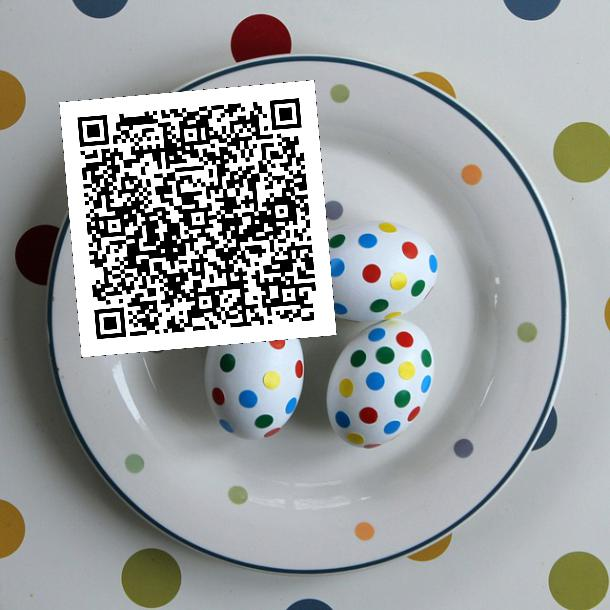qr_code: (59, 80, 336, 357)
